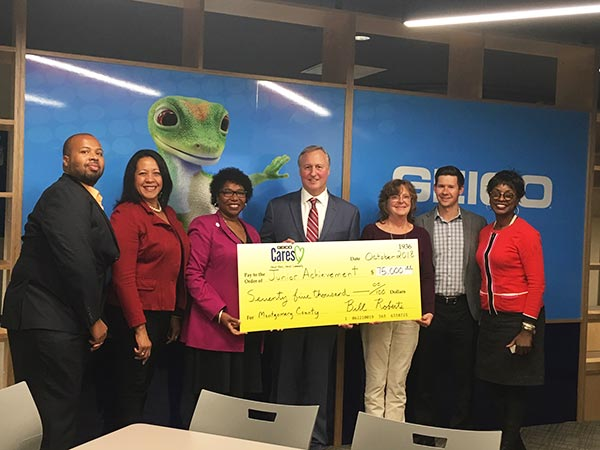geico: (395, 163, 559, 212)
